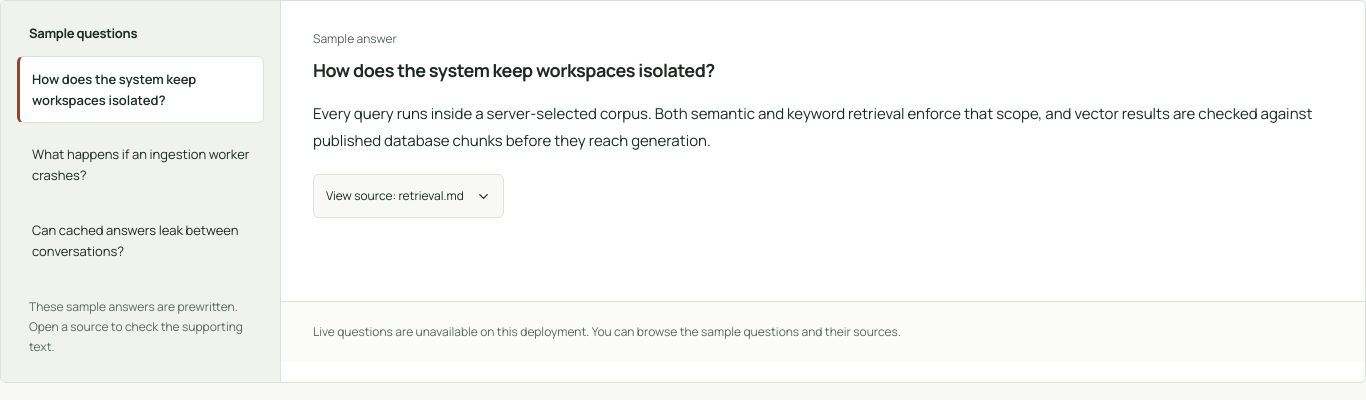
Test: public demo › does not offer a failing form when live questions are not configured
Expected: the message shows "Live questions are unavailable", [313,323,901,340]
Click the button "Can cached answers leak between conversations?" at (140, 241), box [17,207,264,275]
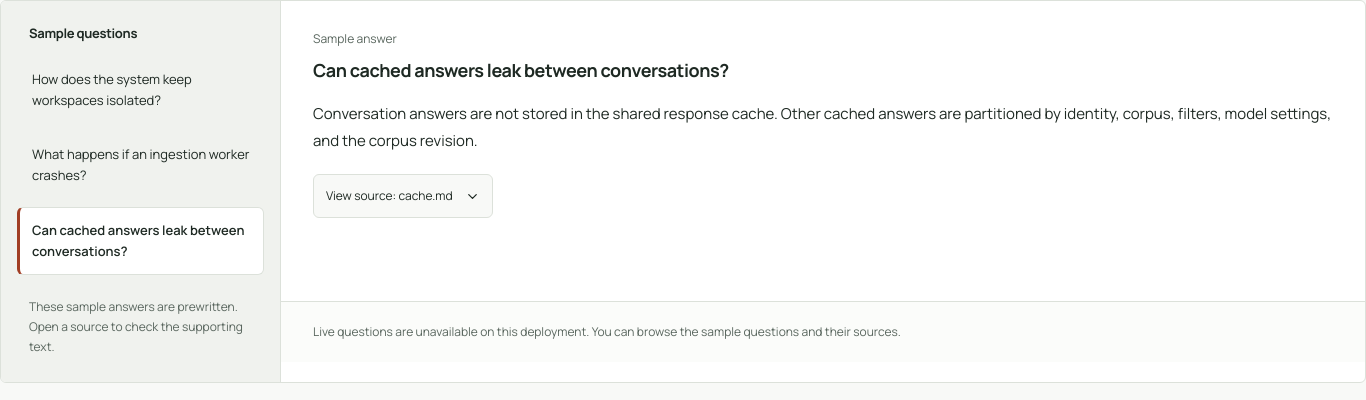
Expected: the text "Conversation answers are not stored" is shown, [313,103,1331,151]
